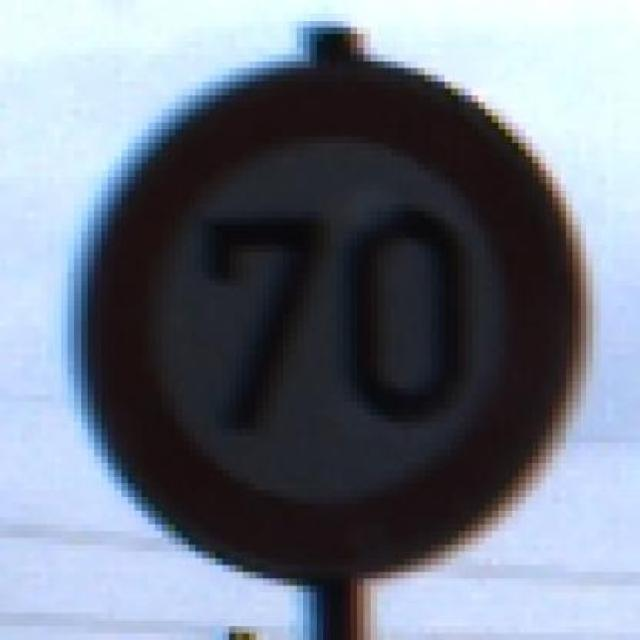forb_speed_over_70: (93, 69, 562, 569)
